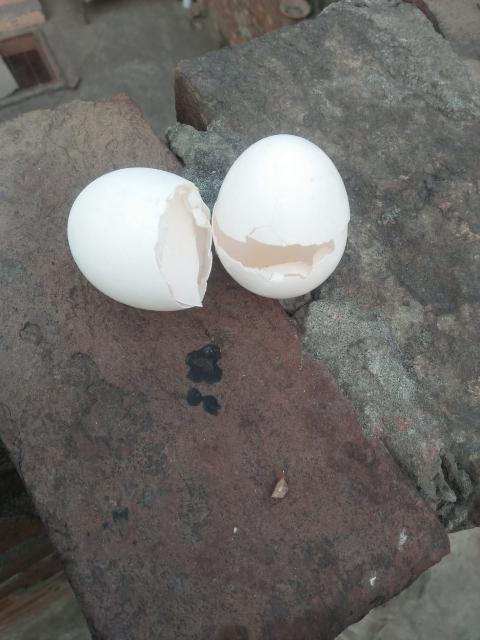Roto: (210, 132, 351, 300), (66, 166, 213, 312)
